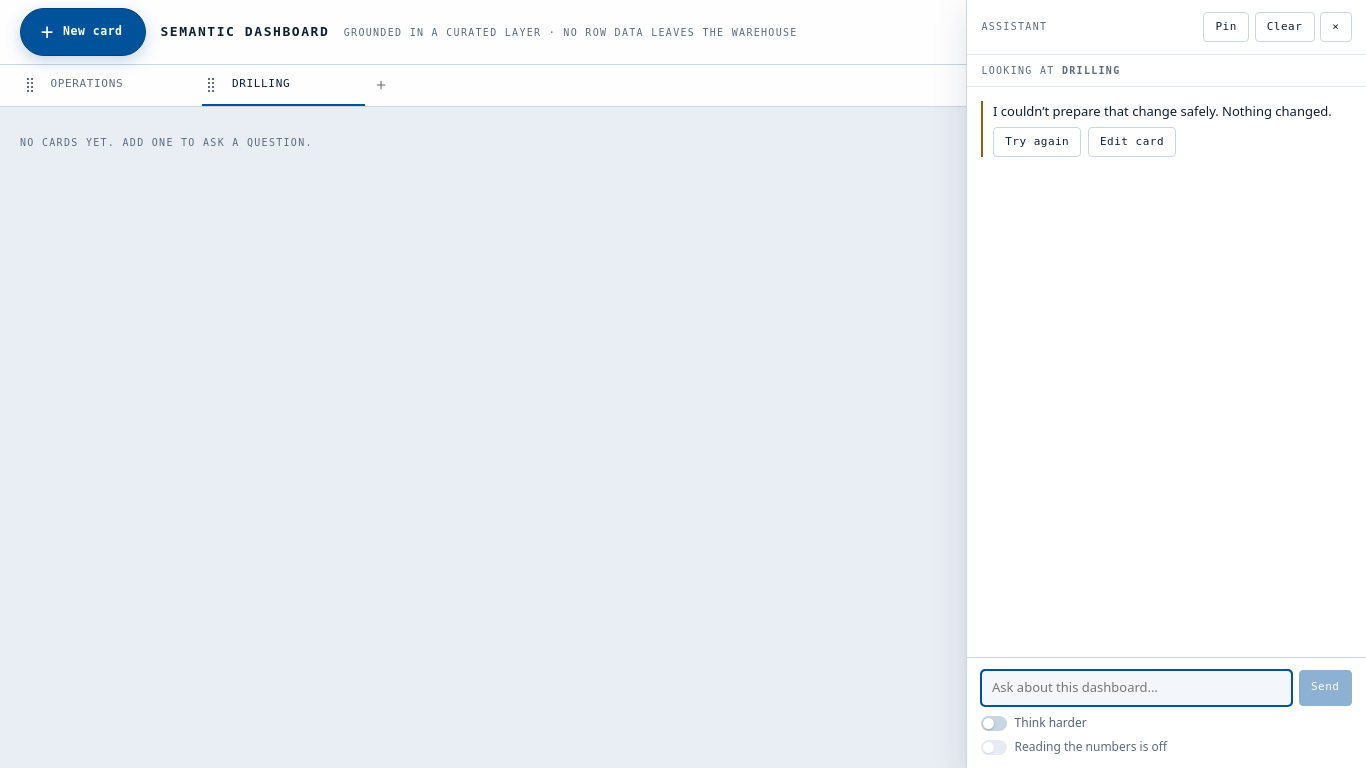
chat recovery navigation › opens and focuses the recovered card's edit strip on its dashboard
Click the button "Edit card" at {"x": 1132, "y": 142}, box [1088, 127, 1176, 157]
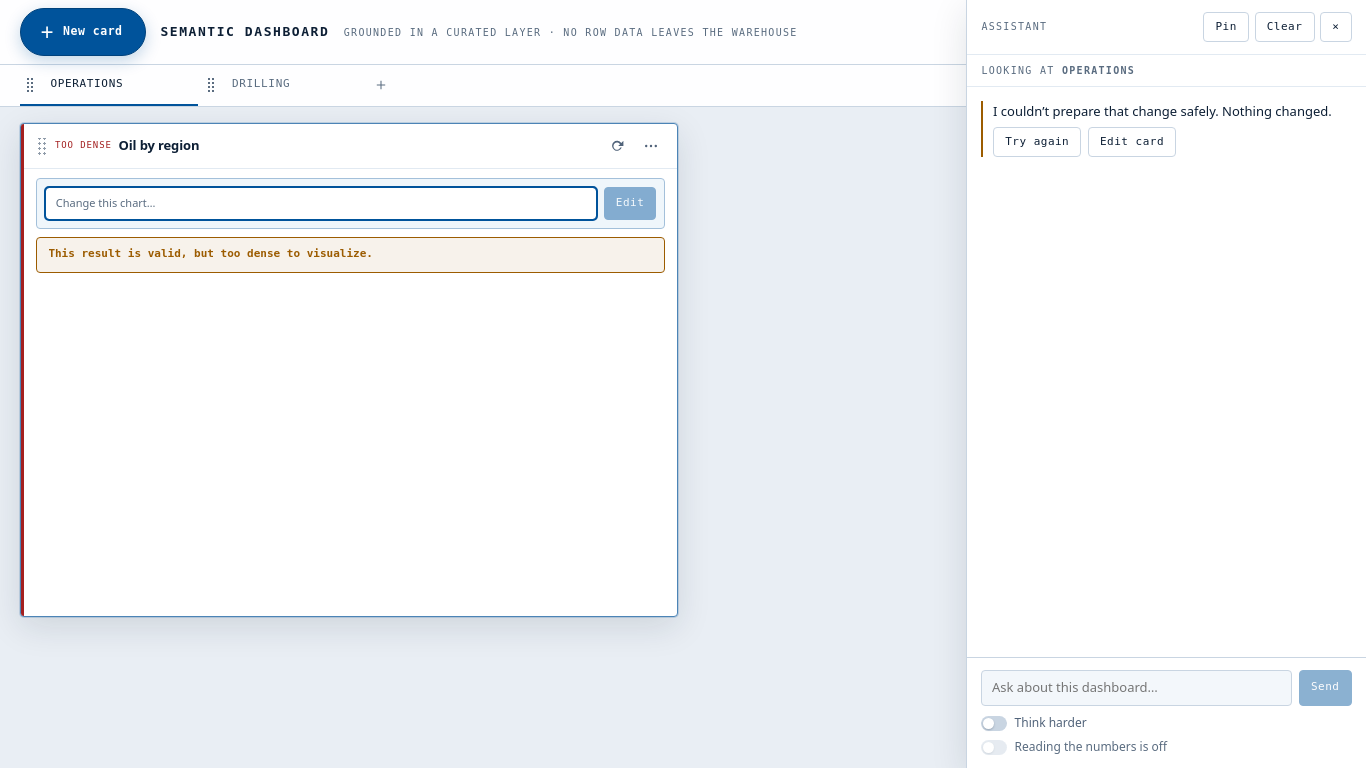
Result: the field labelled "Change this chart…" is shown at [45, 187, 597, 220]
